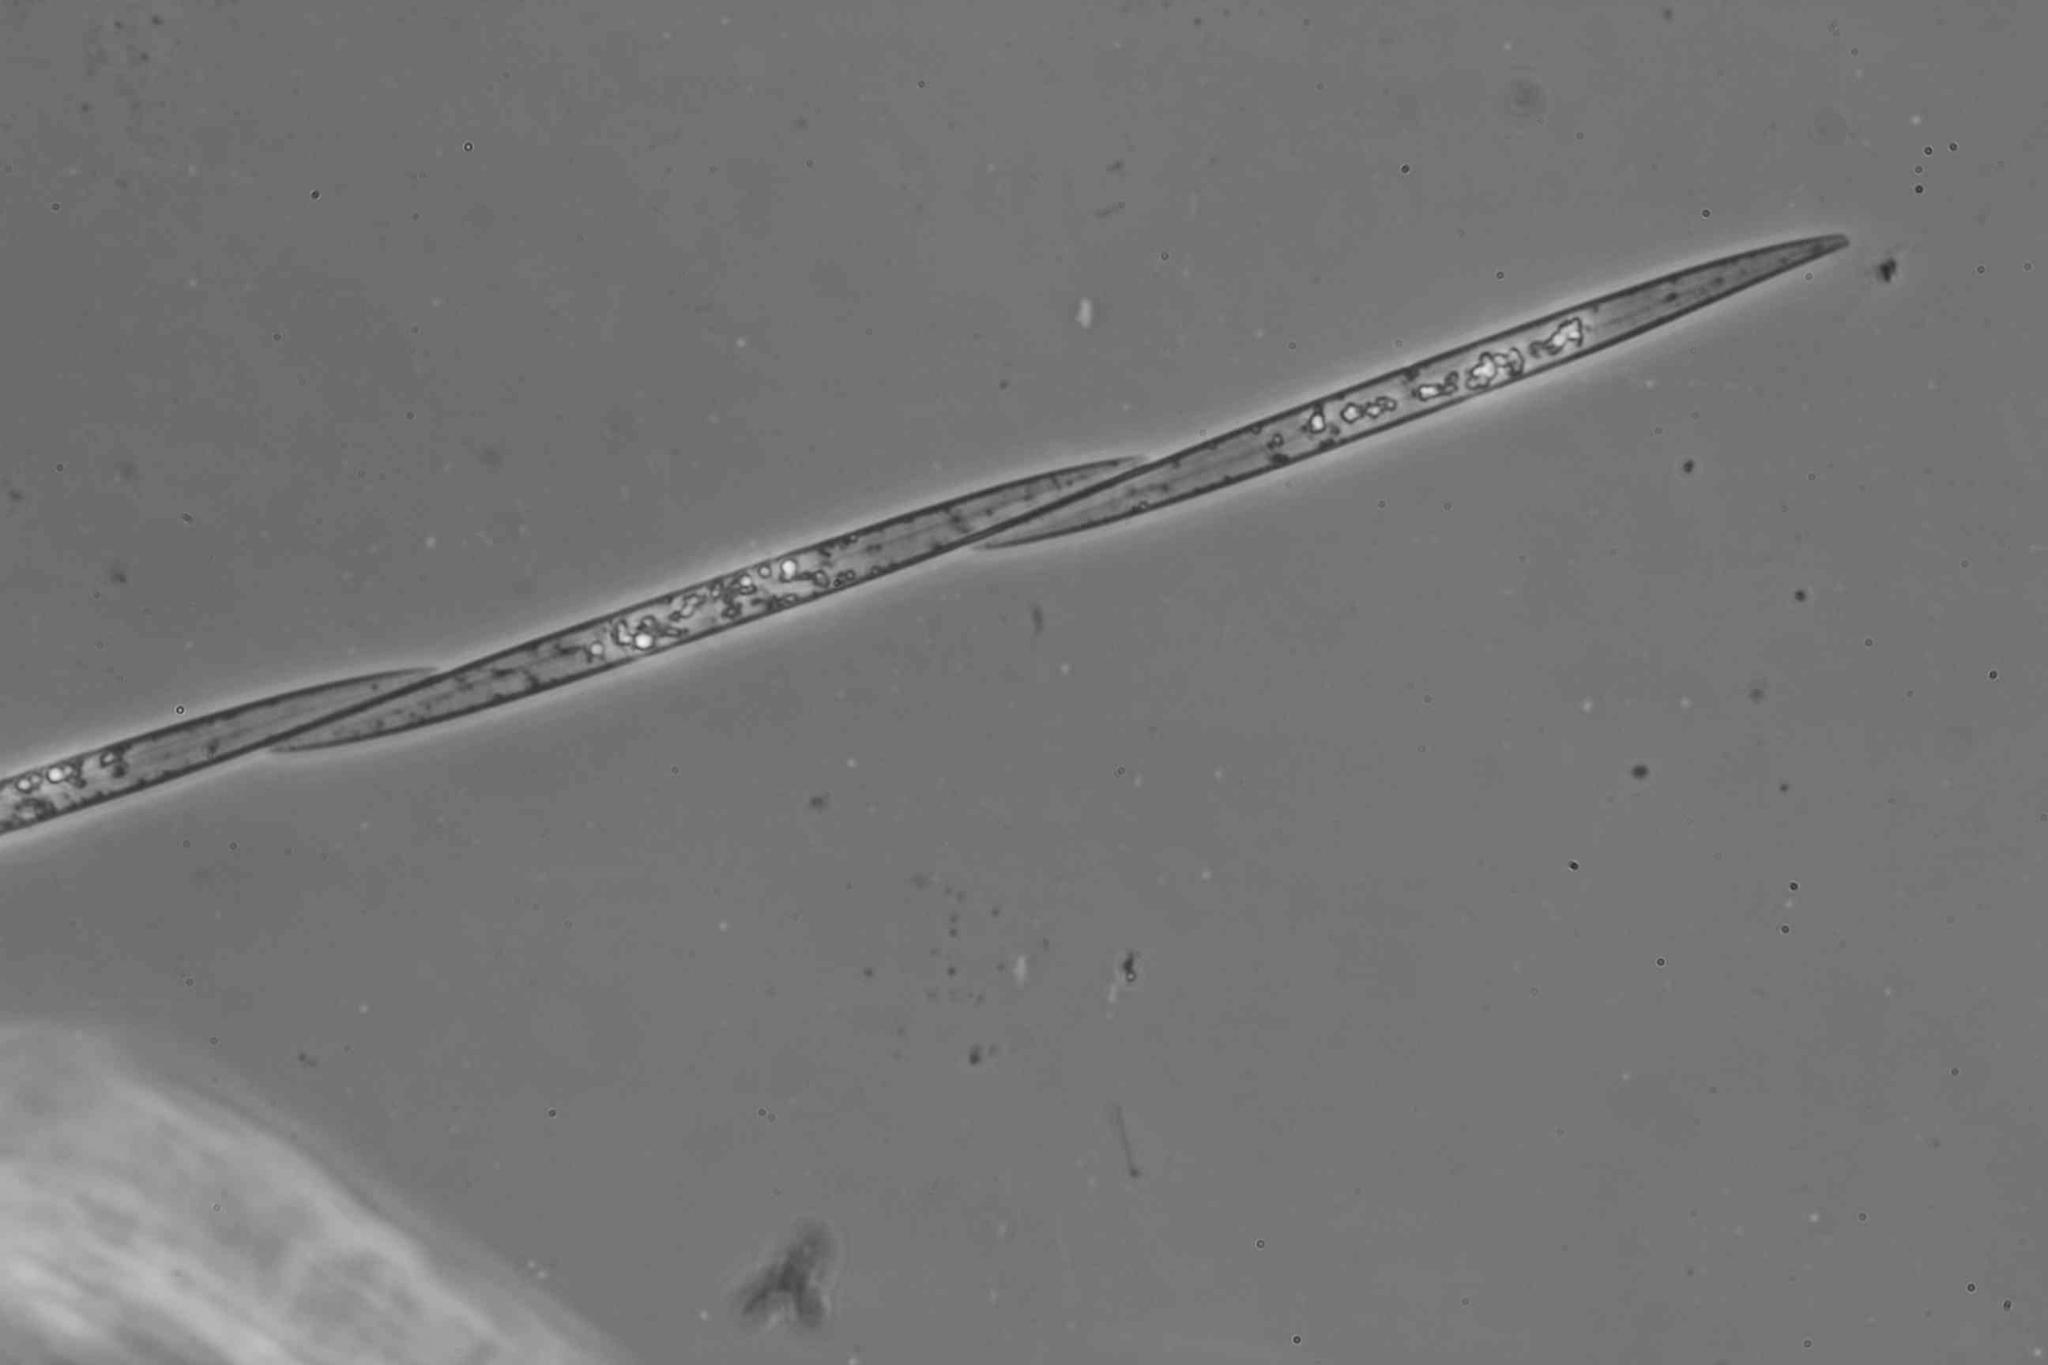pseudo_nitzschia: (0, 235, 1855, 835)
